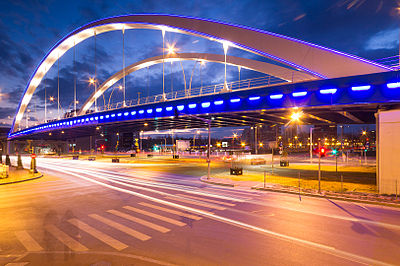bridge: (3, 12, 399, 139)
